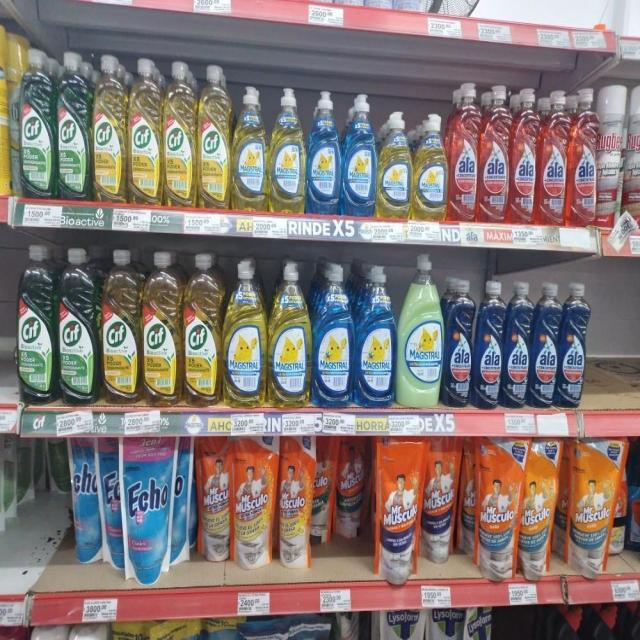ala_conc_azul: (444, 276, 474, 409), (559, 281, 589, 409), (474, 279, 503, 410), (532, 281, 559, 410), (504, 280, 530, 409)
ala_conc_rojo: (480, 84, 510, 225), (568, 88, 598, 228), (449, 81, 478, 224), (539, 89, 568, 228), (511, 86, 538, 226)
ala_crem_blanco: (68, 623, 110, 640), (28, 624, 67, 640)
cif_conc_bot_amarilla: (101, 248, 141, 404), (142, 249, 181, 406), (183, 251, 221, 406), (92, 53, 126, 204), (128, 57, 162, 205), (197, 62, 231, 209), (163, 60, 196, 207)
cif_conc_botella_verde: (58, 246, 98, 405), (17, 244, 56, 406), (19, 48, 55, 200), (56, 50, 91, 201)
cif_conc_sachet_amarillo: (0, 22, 11, 197)
magistral_con_amarillo: (224, 257, 266, 408), (268, 259, 310, 407), (270, 86, 306, 214), (232, 84, 268, 211), (377, 110, 412, 220), (413, 113, 448, 221)
magistral_con_azul: (312, 262, 353, 408), (355, 263, 396, 408), (342, 92, 376, 218), (307, 89, 340, 216), (628, 452, 640, 559)
magistral_con_crema: (398, 253, 443, 408)
